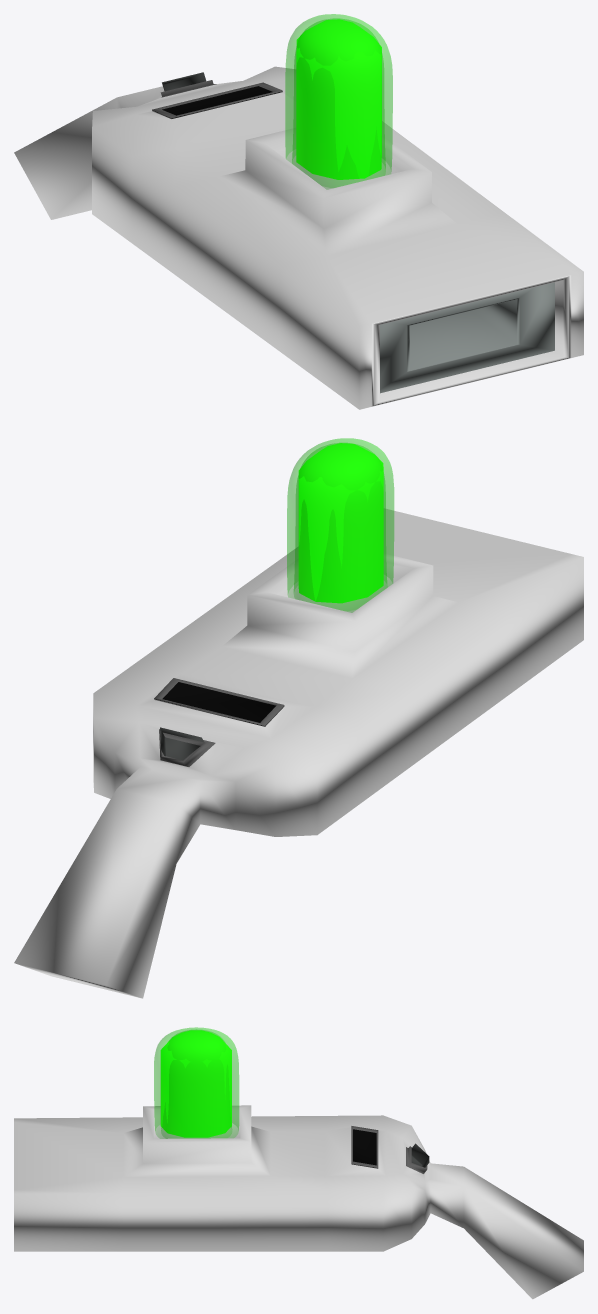
Rendered from PortalGun.glb.
3 renders of one model, top to bottom at view 1: azimuth 30°, elevation 25°; view 2: azimuth 150°, elevation 25°; view 3: azimuth 270°, elevation 25°, orthographic. The views are drawn at different scales.
Parts seen in each view (by area): view 1: Cube, Cube.003, DOMAIN, Cube.002; view 2: Cube, Cube.003, DOMAIN, Cube.002, Cube.001; view 3: Cube, Cube.003, DOMAIN, Cube.002.
Part boxes in pixels (x1=…): Cube: x1=14, y1=66, x2=583, y2=409; Cube.003: x1=285, y1=14, x2=392, y2=189; DOMAIN: x1=296, y1=19, x2=381, y2=179; Cube.002: x1=152, y1=82, x2=282, y2=118; Cube: x1=14, y1=508, x2=583, y2=998; Cube.003: x1=287, y1=438, x2=393, y2=612; DOMAIN: x1=298, y1=443, x2=383, y2=603; Cube.002: x1=154, y1=678, x2=284, y2=726; Cube.001: x1=160, y1=727, x2=204, y2=760; Cube: x1=14, y1=1105, x2=583, y2=1299; Cube.003: x1=154, y1=1027, x2=238, y2=1138; DOMAIN: x1=160, y1=1030, x2=231, y2=1137; Cube.002: x1=351, y1=1126, x2=378, y2=1168.
Size of the model in its own units: 1.34 by 2.07 by 4.25.
